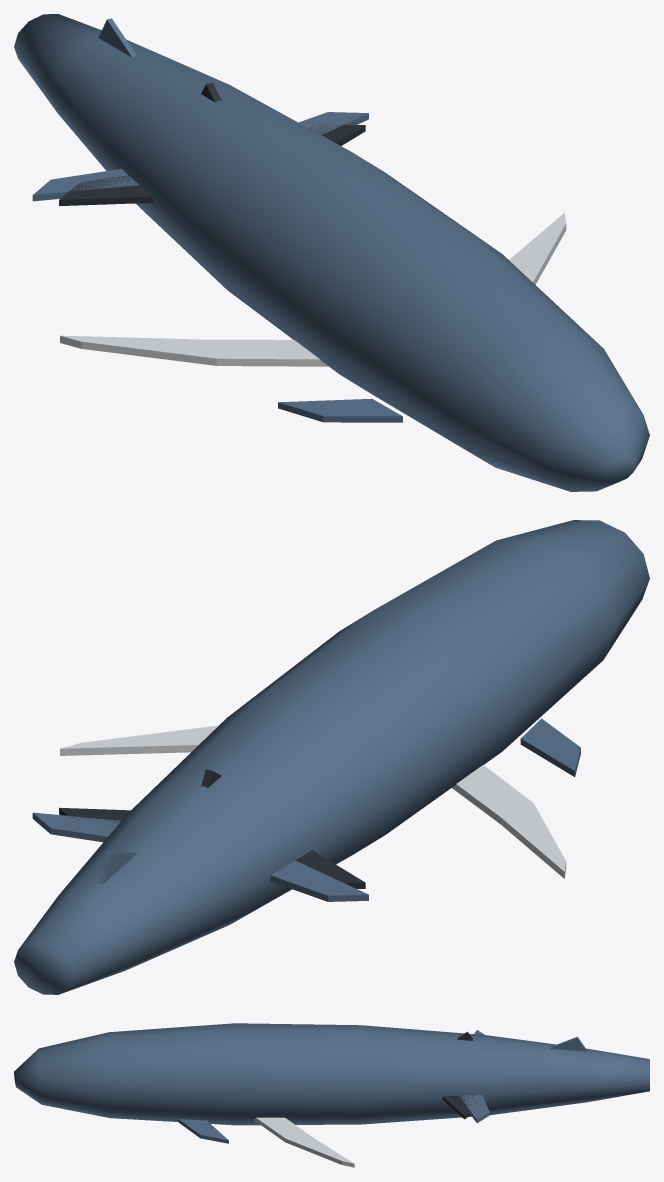
The model's file is sealife.glb.
3 views of the same model, one above another, from view 1: azimuth 30°, elevation 25°; view 2: azimuth 150°, elevation 25°; view 3: azimuth 270°, elevation 25° (orthographic). The views are drawn at different scales.
Visible parts, largest first — view 1: bluewhale_body, humpback_body, bluewhale_tail, humpback_tail; view 2: bluewhale_body, humpback_body, bluewhale_tail, humpback_tail; view 3: bluewhale_body, humpback_body, bluewhale_tail, humpback_tail.
Part boxes in pixels (x1,y1,x2,y2): bluewhale_body: [14, 14, 649, 491]; humpback_body: [60, 82, 566, 366]; bluewhale_tail: [32, 112, 368, 201]; humpback_tail: [59, 124, 365, 206]; bluewhale_body: [14, 520, 649, 994]; humpback_body: [60, 725, 566, 878]; bluewhale_tail: [32, 812, 368, 901]; humpback_tail: [59, 807, 365, 888]; bluewhale_body: [14, 1023, 649, 1143]; humpback_body: [253, 1031, 472, 1167]; bluewhale_tail: [459, 1030, 489, 1123]; humpback_tail: [442, 1095, 473, 1119].
Bounding box in the file's own units: 10.2 × 3.12 × 20.24.
